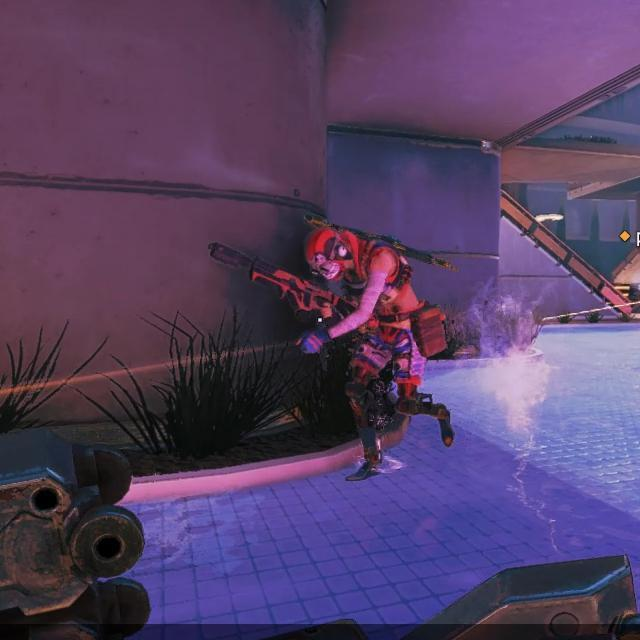avatar: (293, 223, 456, 486)
